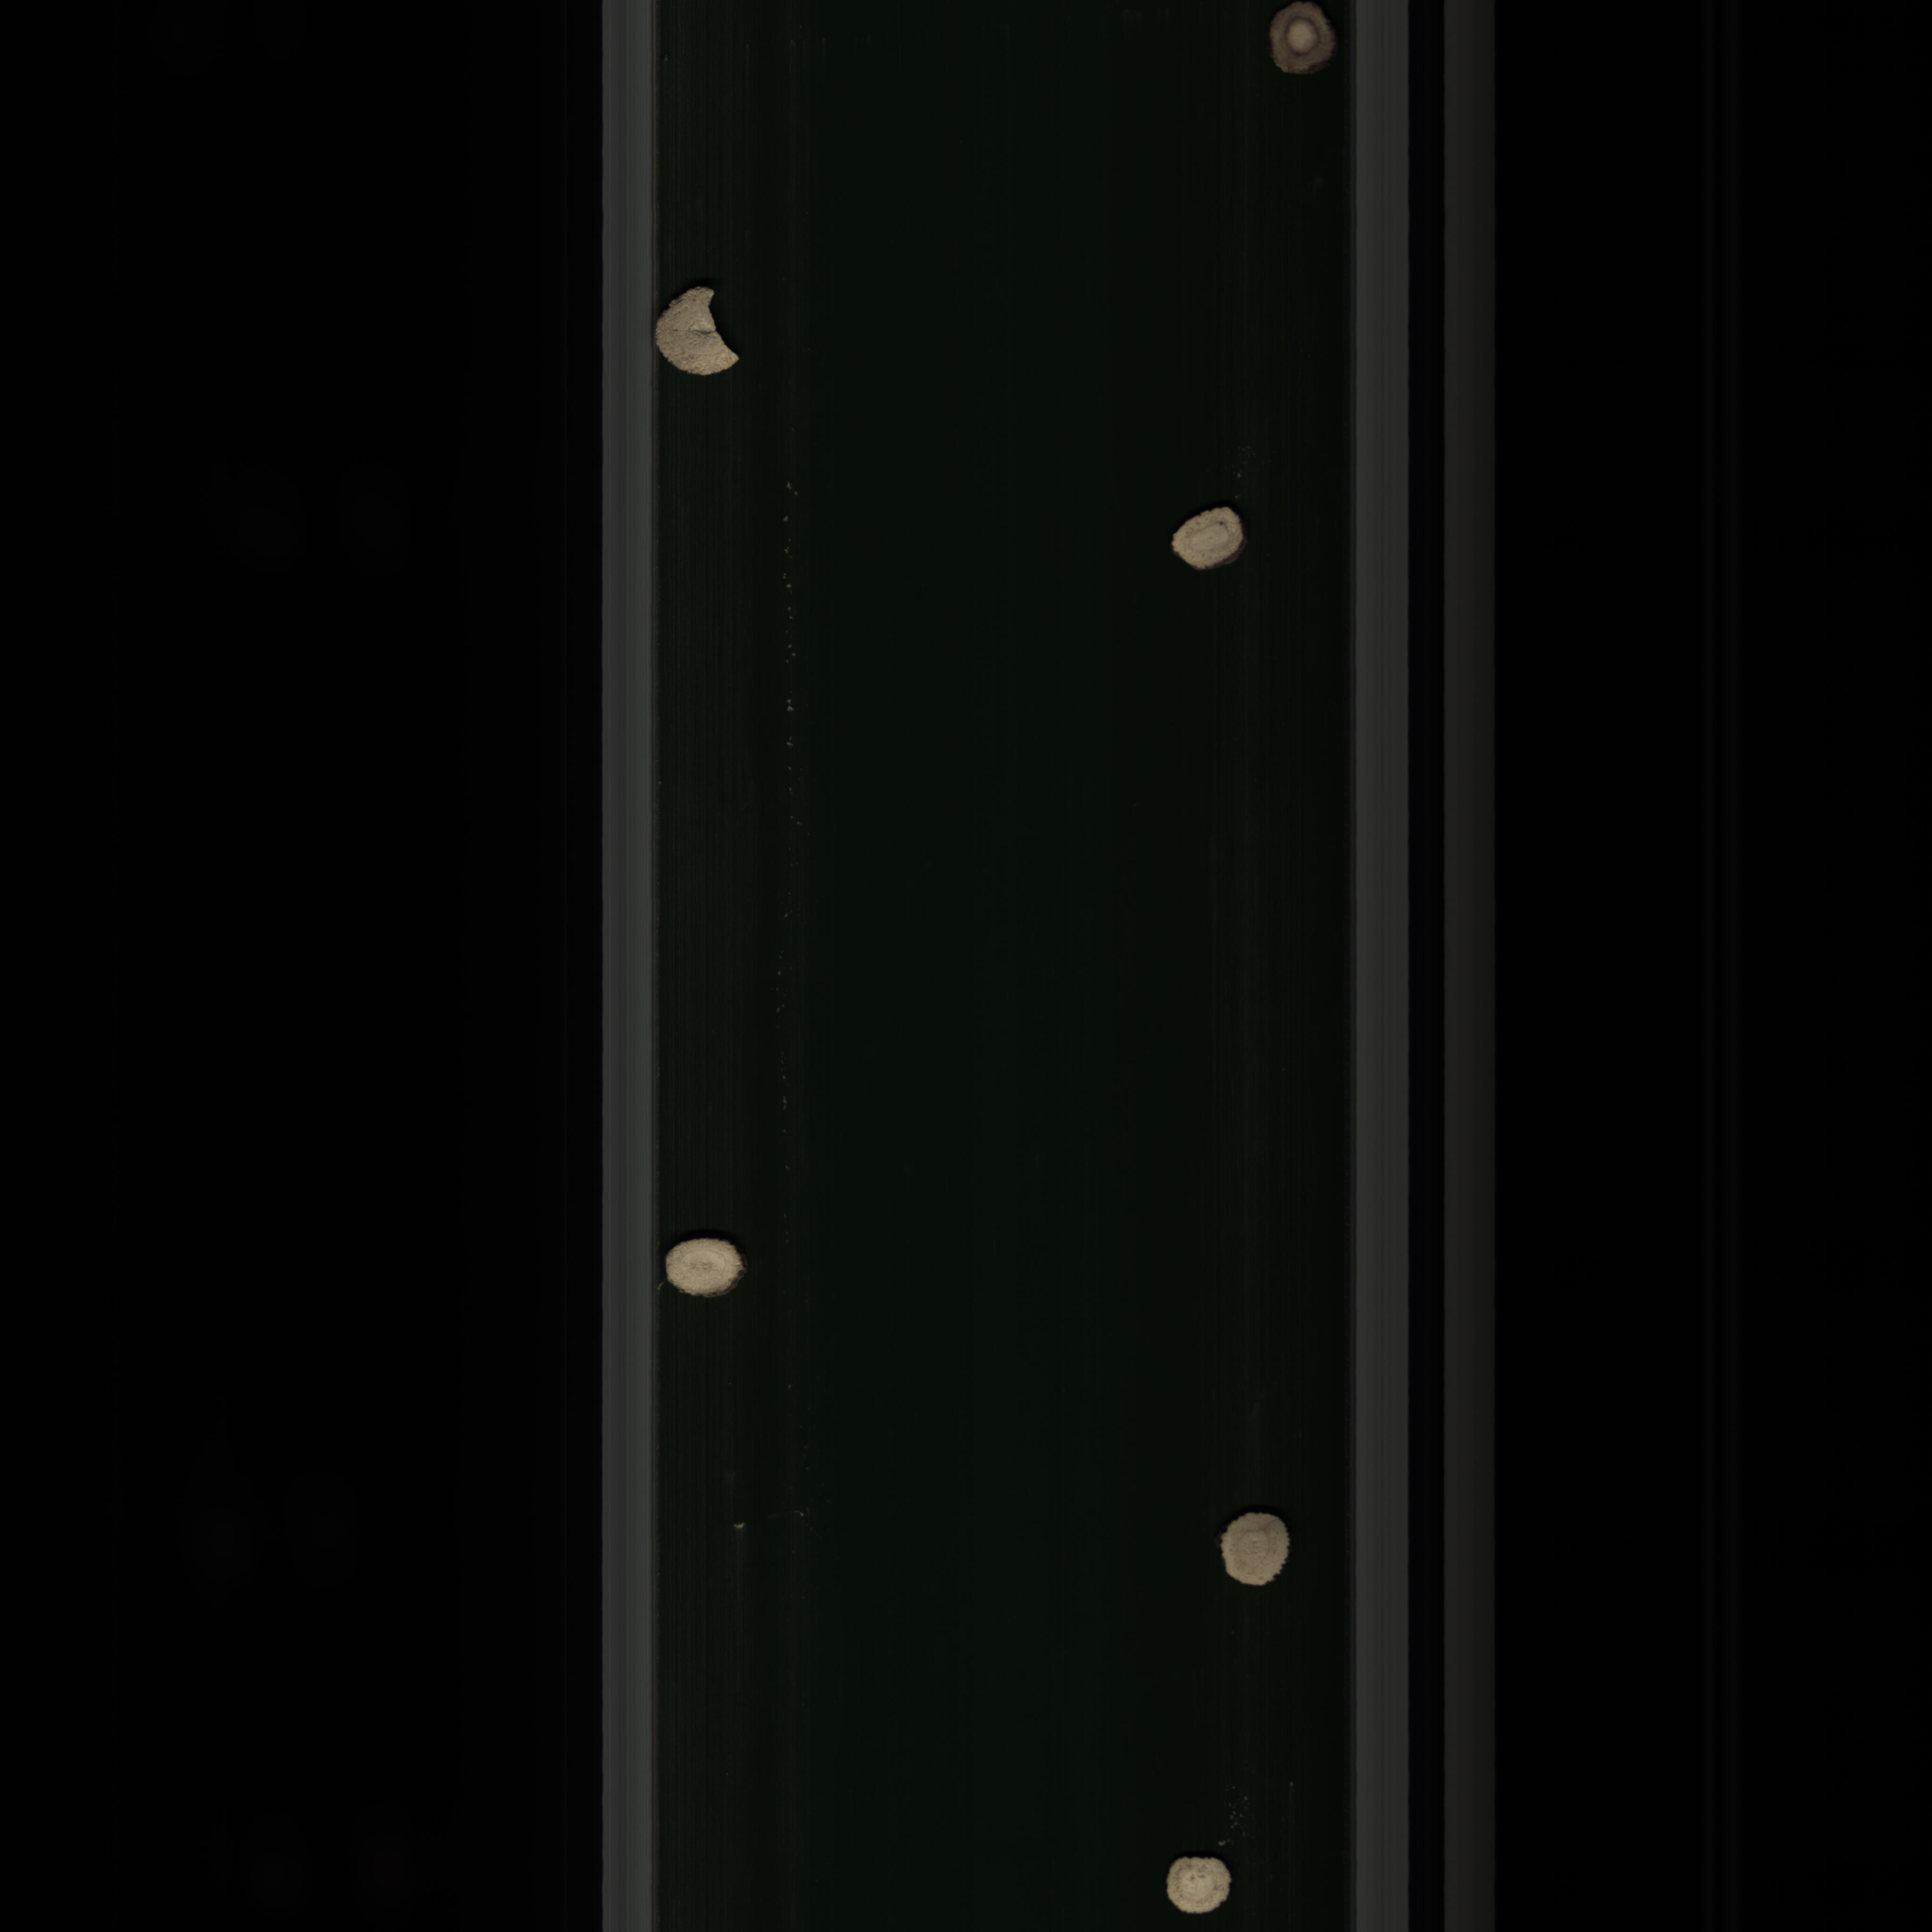debris: (653, 276, 745, 391)
moldy: (1261, 2, 1343, 78)
